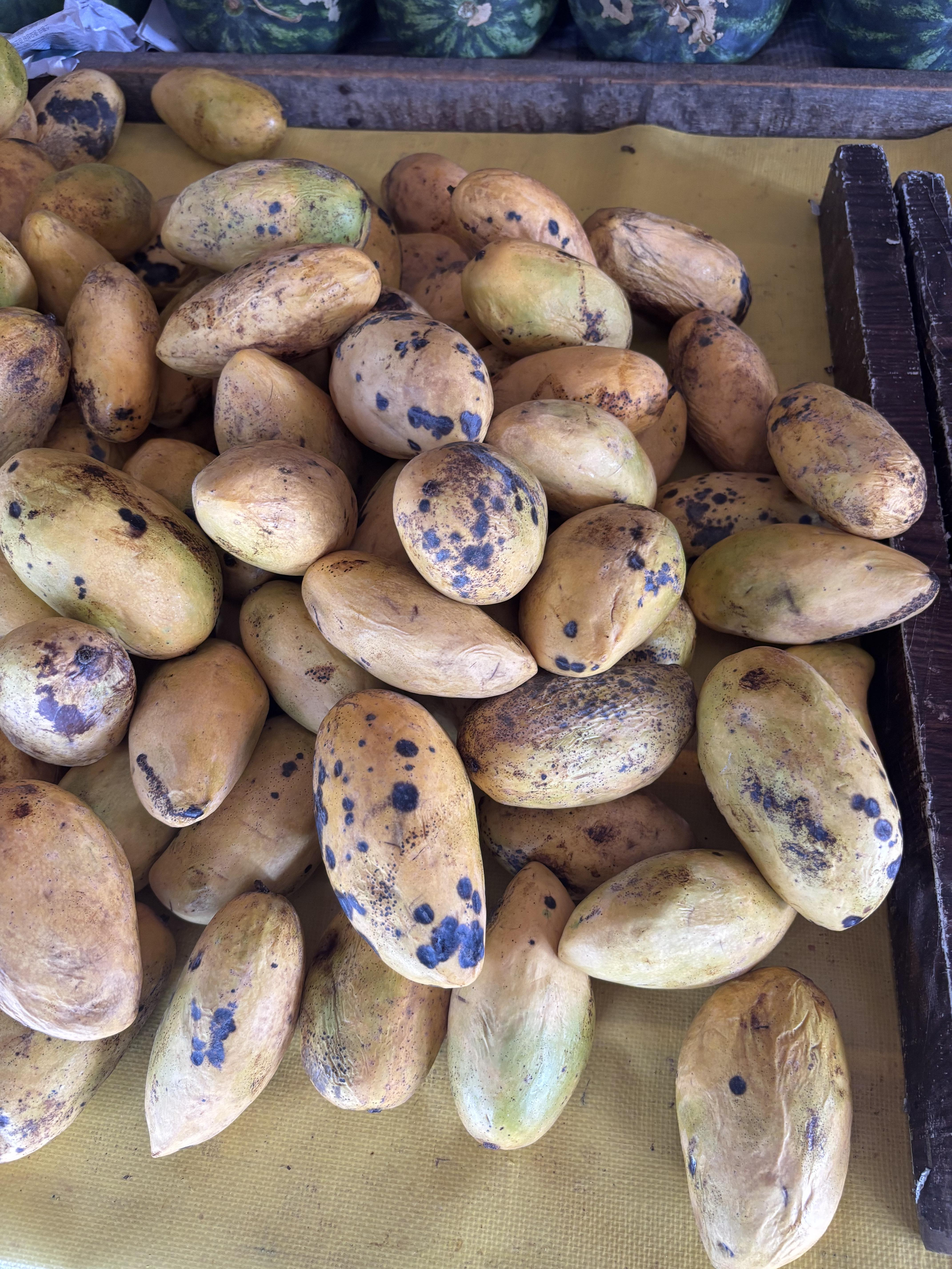mango: (697, 646, 903, 930), (676, 966, 852, 1269), (313, 689, 488, 987), (0, 448, 222, 659), (144, 891, 304, 1157), (302, 548, 537, 699), (686, 524, 939, 644), (520, 503, 686, 678), (128, 639, 269, 830), (393, 442, 547, 605), (767, 383, 926, 539), (330, 310, 493, 459), (65, 262, 158, 443), (151, 67, 286, 166), (952, 580, 952, 580)
occluded: (0, 904, 175, 1163), (447, 862, 594, 1149), (0, 782, 142, 1040), (148, 714, 320, 924), (457, 663, 696, 810), (559, 849, 796, 989), (156, 244, 381, 377), (300, 915, 449, 1113), (477, 790, 696, 903), (162, 158, 371, 271), (192, 441, 357, 576), (239, 579, 383, 732), (0, 616, 136, 766), (461, 238, 632, 357), (584, 207, 751, 327), (486, 399, 656, 516), (214, 350, 361, 484), (668, 309, 778, 473), (60, 739, 177, 891), (656, 471, 826, 565), (494, 346, 669, 435), (450, 168, 596, 264), (26, 164, 157, 261), (0, 307, 71, 465), (19, 210, 113, 325), (33, 69, 125, 170), (123, 437, 215, 521), (381, 152, 467, 238), (410, 258, 488, 348), (352, 461, 411, 564), (126, 231, 197, 311), (0, 139, 56, 240), (617, 599, 696, 668), (45, 402, 124, 466), (636, 388, 688, 485), (0, 552, 58, 638), (398, 233, 467, 294), (212, 543, 276, 605), (152, 364, 212, 429), (0, 730, 67, 784), (361, 200, 402, 288), (0, 233, 38, 309), (0, 35, 28, 136), (374, 285, 432, 318), (4, 99, 38, 142), (480, 344, 515, 378)
